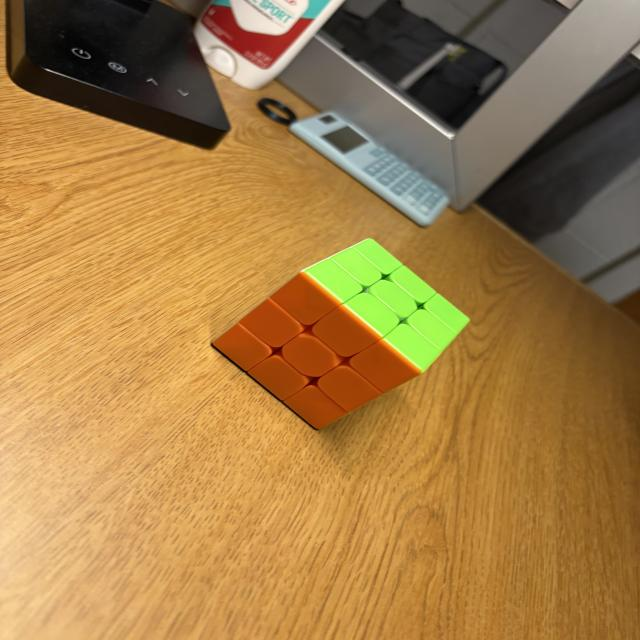Rubiks Cube: (209, 240, 470, 432)
